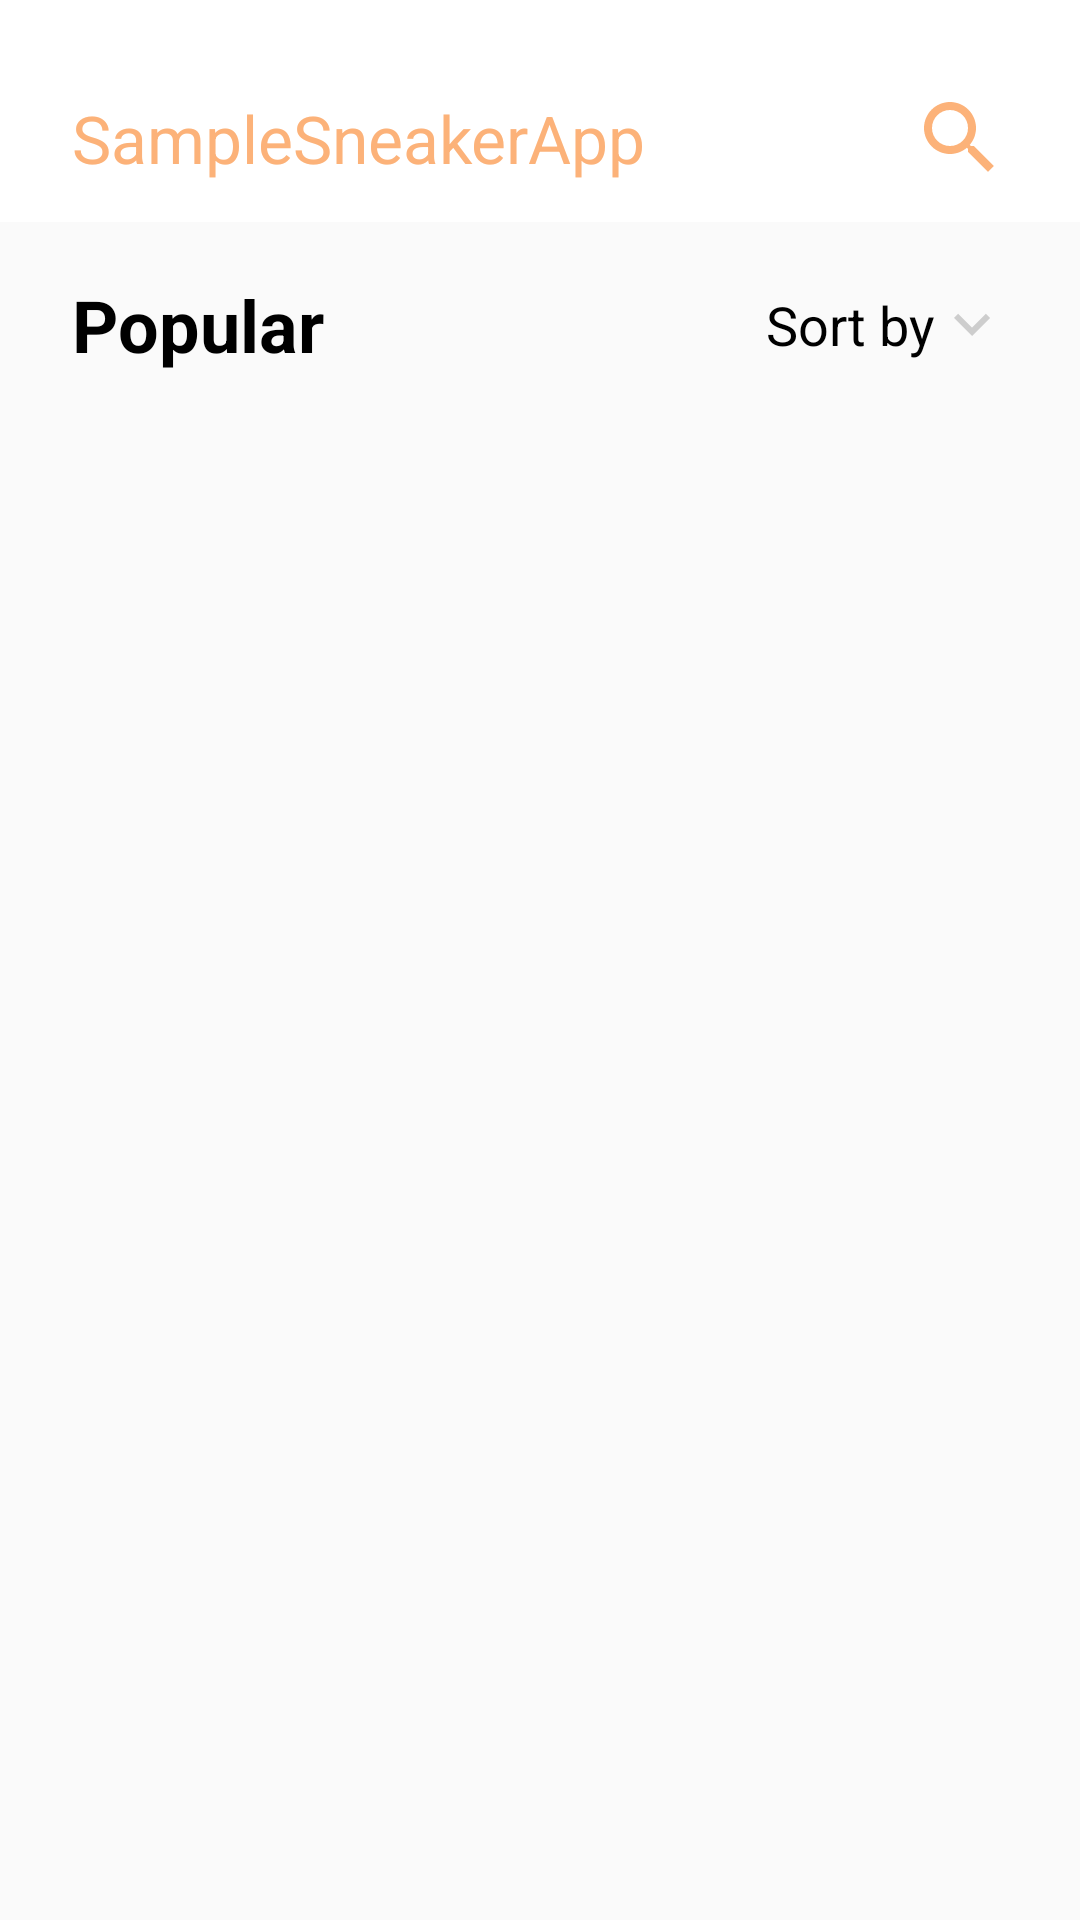

Icons on this 1080w x 1920h Android screen, each with its box as (x1, y1, x2, y2):
search: (924, 102, 994, 172)
